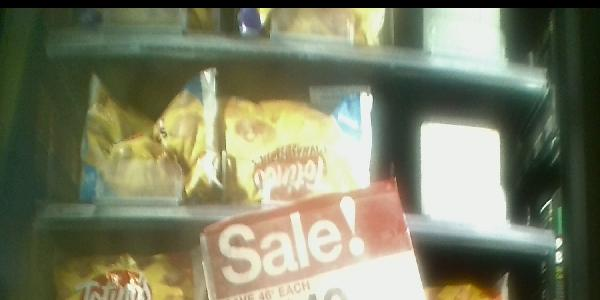icecream: (220, 76, 372, 215), (74, 64, 225, 203)
